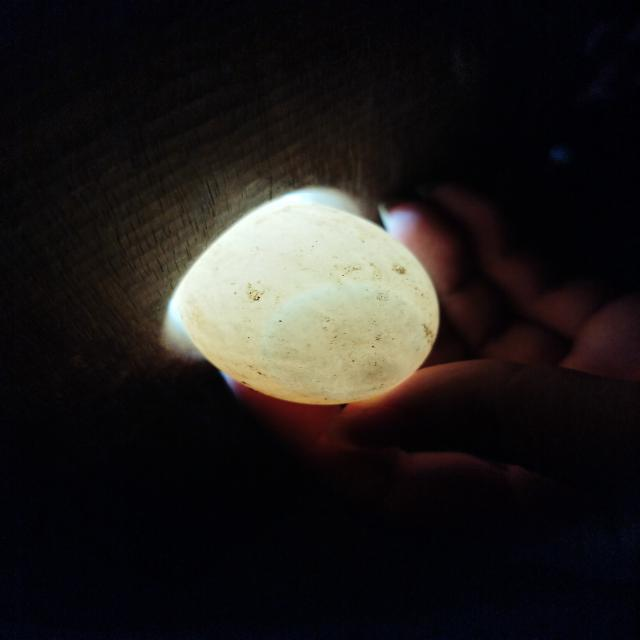Camara de Ar: (261, 285, 427, 396)
